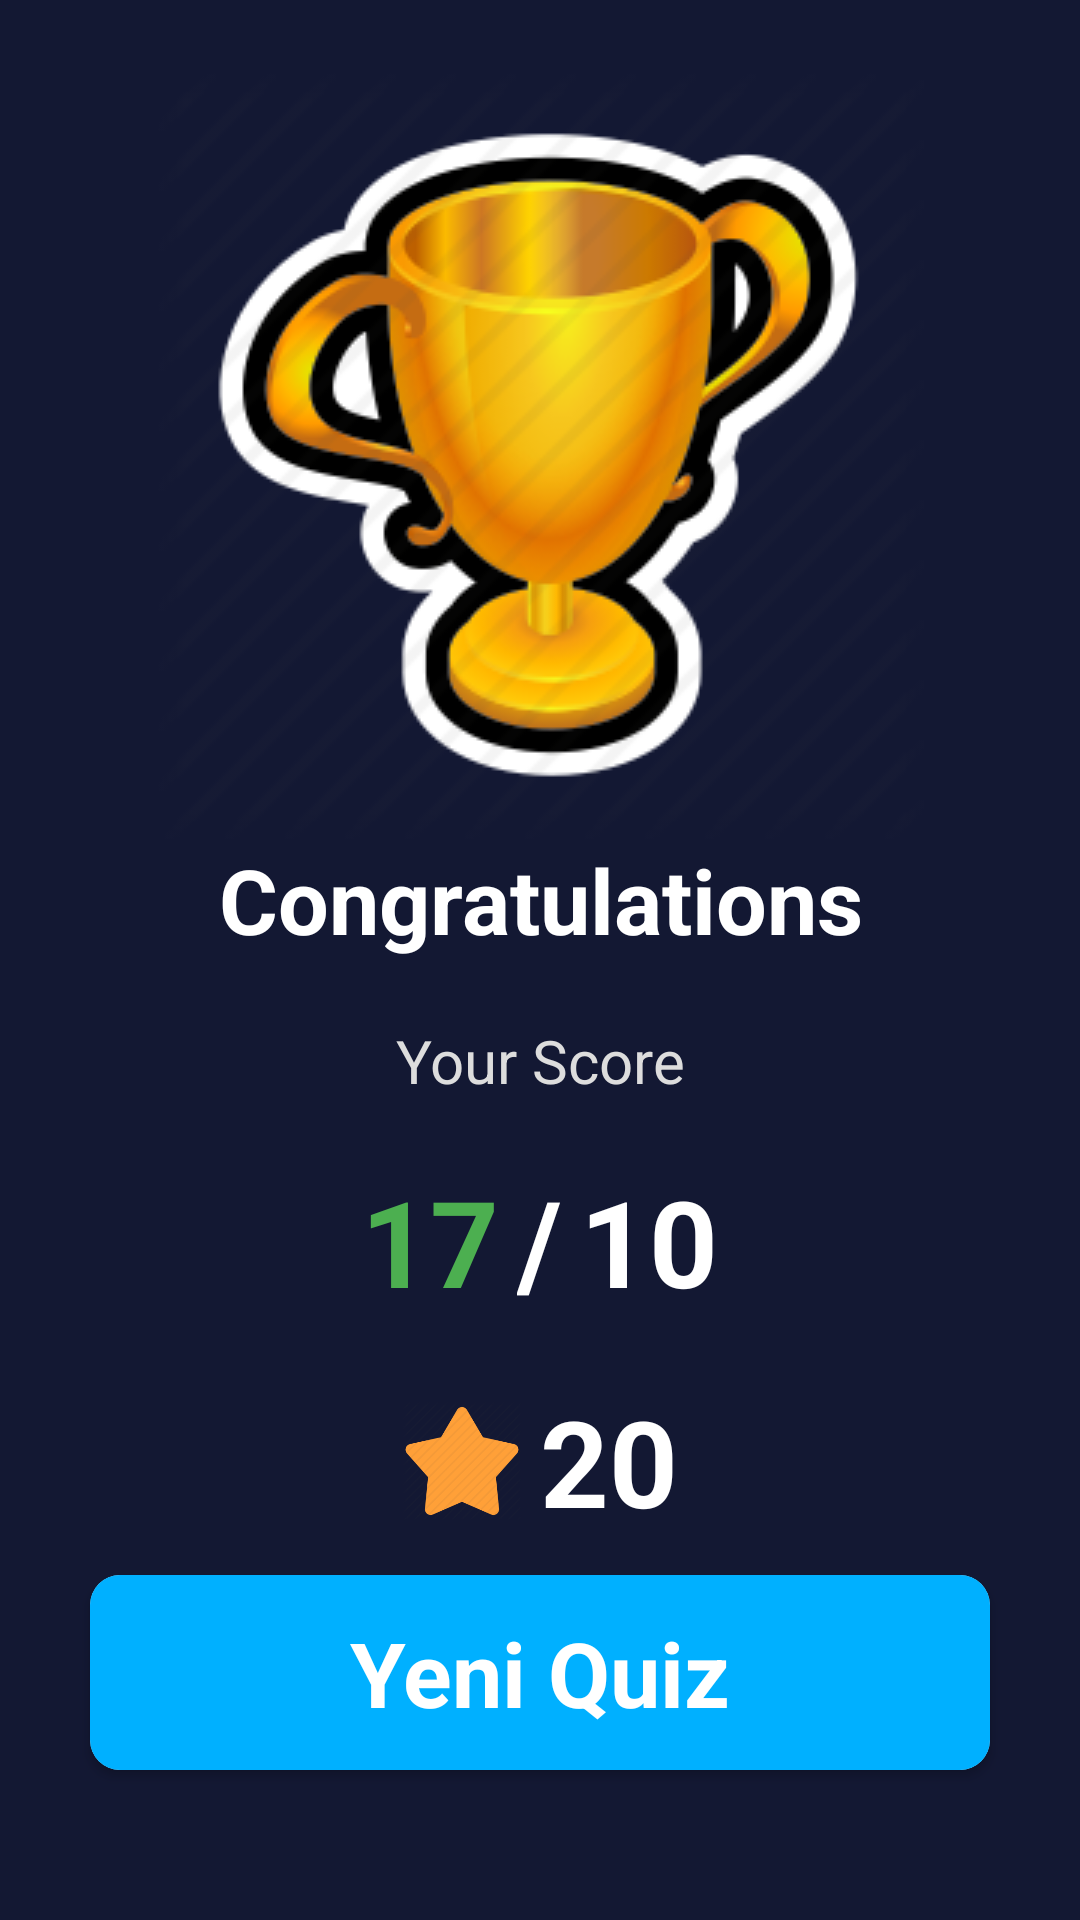

Named icons in this screenshot (1080*1920) and their centers, (x=x, y=y):
point: (x=462, y=1461)
